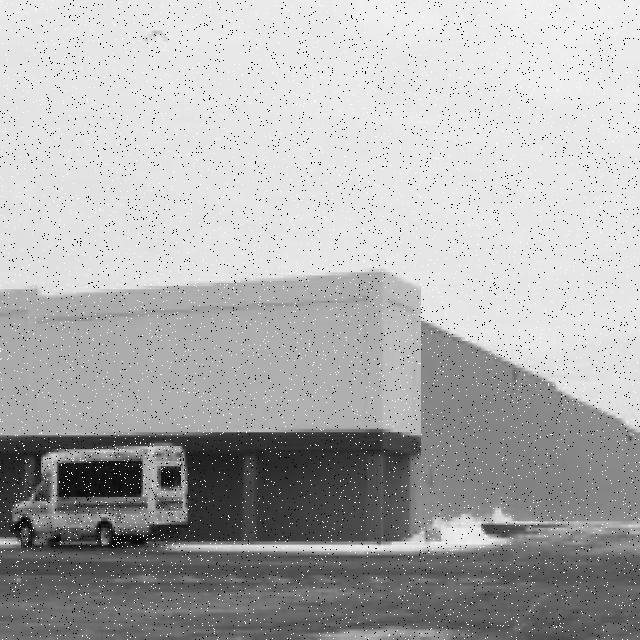Bus- Small: (9, 443, 190, 548)
